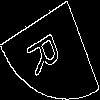R: (25, 25, 69, 79)
